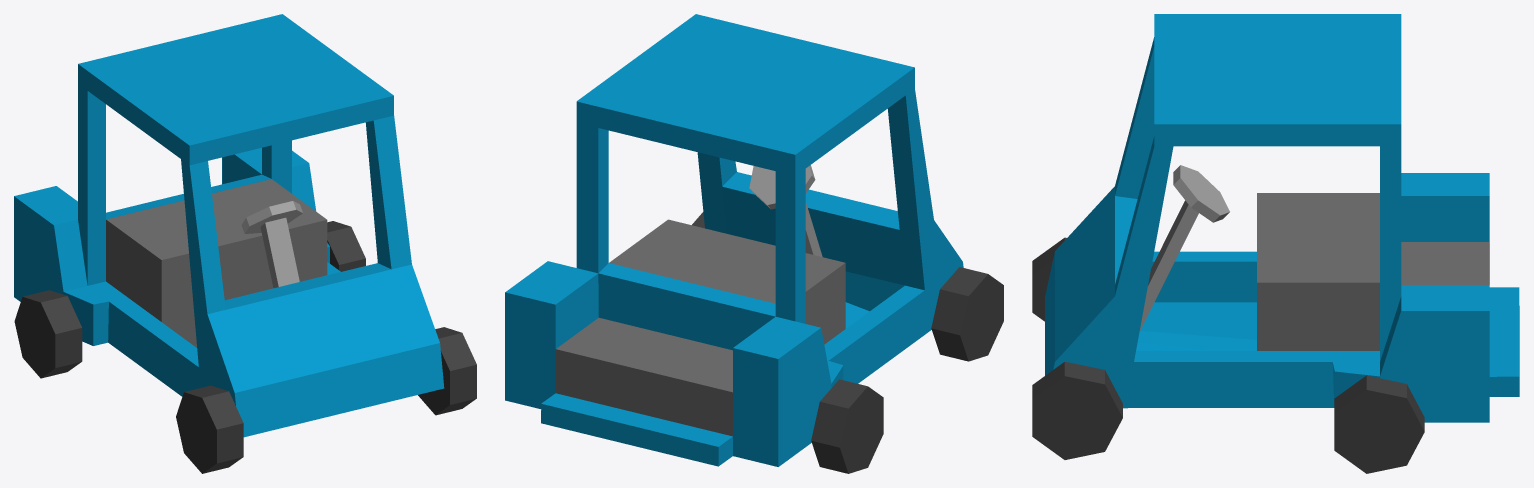
Rendered from golfcart.fbx.
3 renders of one model, left to right at view 1: azimuth 30°, elevation 25°; view 2: azimuth 150°, elevation 25°; view 3: azimuth 270°, elevation 25°, orthographic. The views are drawn at different scales.
Parts seen in each view (by area): view 1: Cube, Cylinder.003, Cylinder.002, Cylinder, Cylinder.001; view 2: Cube, Cylinder.003, Cylinder.002; view 3: Cube, Cylinder, Cylinder.001, Cylinder.002.
Part boxes in pixels (x1,y1,x2,y2): Cube: (14, 14, 444, 437); Cylinder.003: (14, 290, 82, 378); Cylinder.002: (176, 385, 243, 473); Cylinder: (418, 327, 476, 415); Cylinder.001: (327, 221, 365, 271); Cube: (505, 14, 963, 466); Cylinder.003: (811, 379, 883, 473); Cylinder.002: (931, 267, 1003, 361); Cube: (1045, 14, 1519, 422); Cylinder: (1032, 361, 1122, 459); Cylinder.001: (1334, 375, 1424, 473); Cylinder.002: (1032, 237, 1066, 321).
Size of the model in its own units: 1.38 by 1.24 by 1.7.
